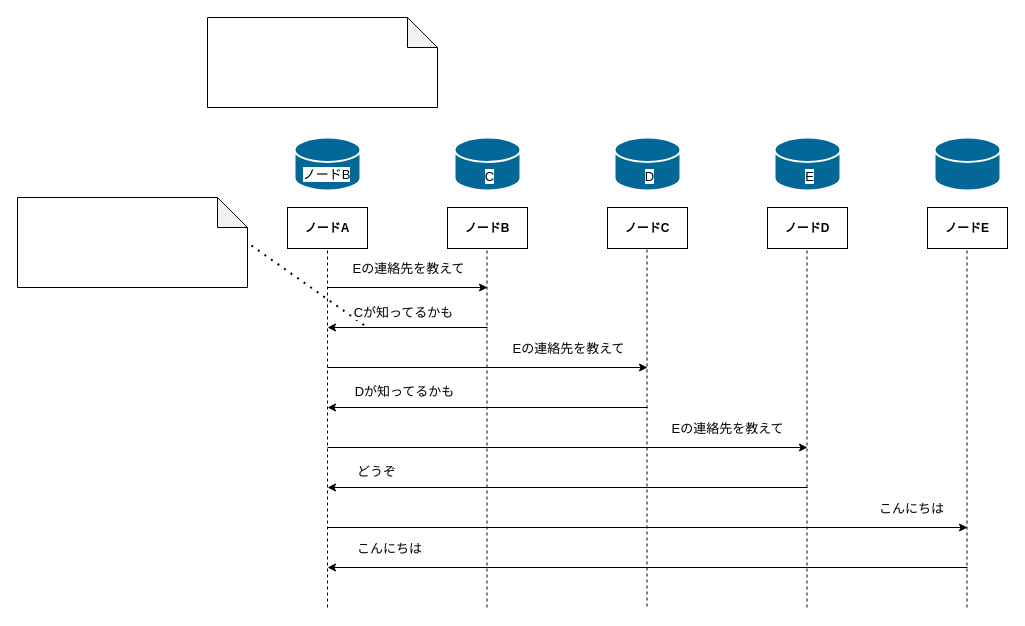
Some shapes in this 1025 by 626 pixel diagram are drawn without their labels. Each missing label, with the box of its shape:
ノードAは Bの連絡先を知っている: (206, 16, 438, 108)
ノードBは 知っているノードの中で 最もEに近いノードを返す: (16, 196, 248, 288)
